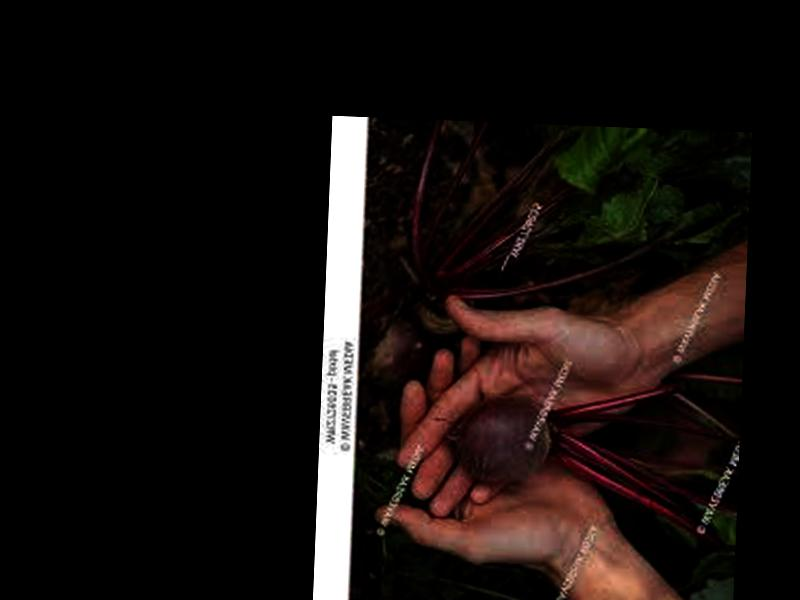Beet: (441, 373, 732, 553)
